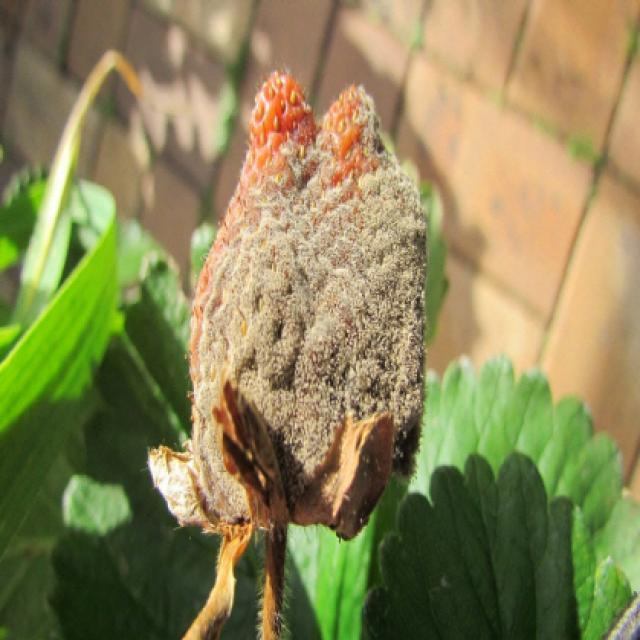Gray Mold: (142, 68, 429, 543)
